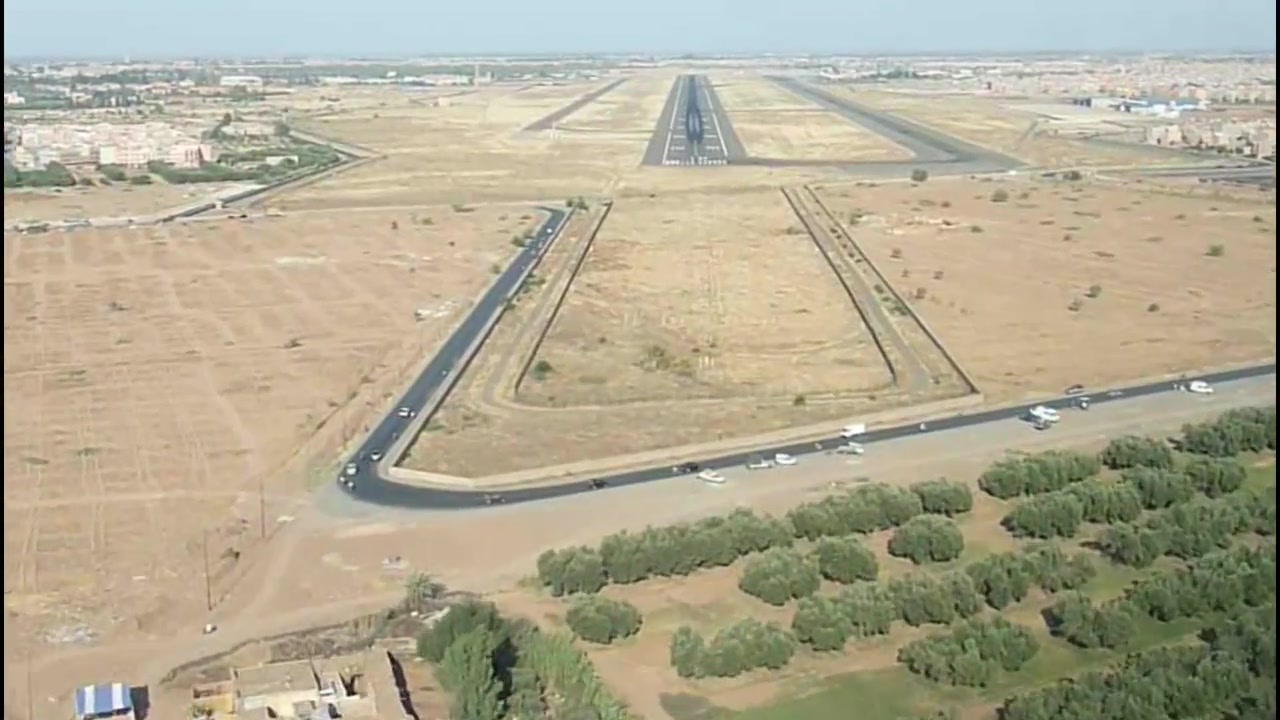entrance: (660, 154, 730, 167)
runway: (658, 74, 733, 169)
